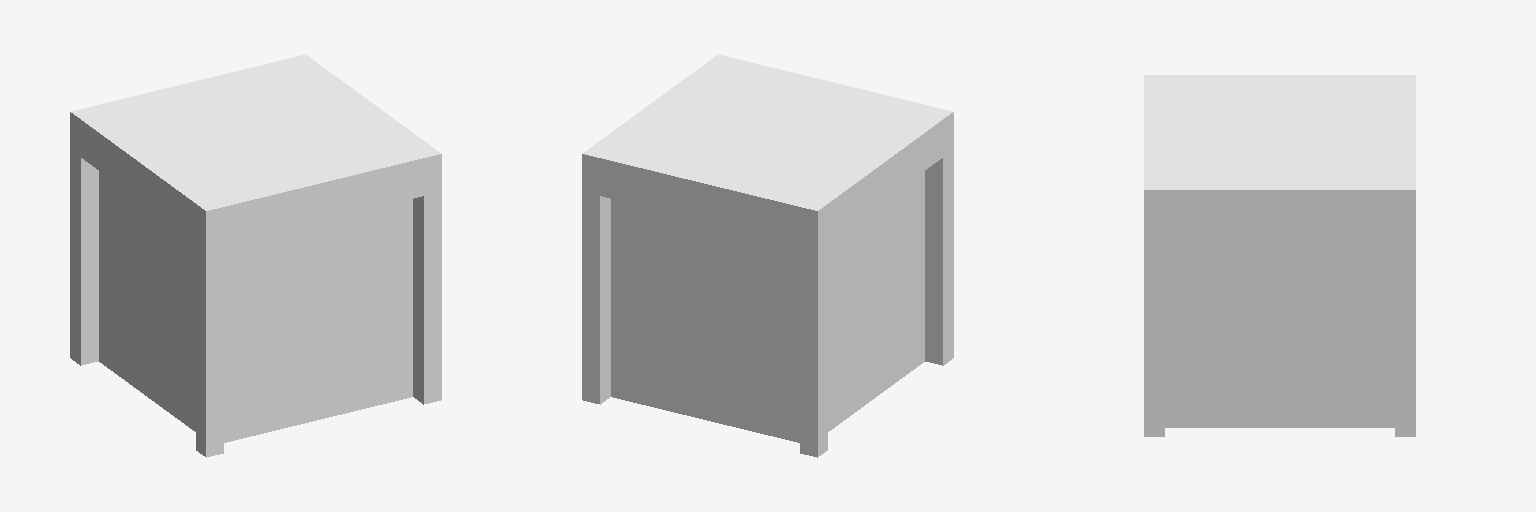
File: Top.obj
The picture shows the model from 3 angles: view 1: azimuth 30°, elevation 25°; view 2: azimuth 150°, elevation 25°; view 3: azimuth 270°, elevation 25°; orthographic projection.
Visible parts, largest first — view 1: object 1; view 2: object 1; view 3: object 1.
Boxes of the visible parts, <box> form: object 1: <box>70,54,441,457</box>; object 1: <box>582,54,953,457</box>; object 1: <box>1144,75,1415,436</box>.
Size of the model in its own units: 3.9 by 3.9 by 3.9.